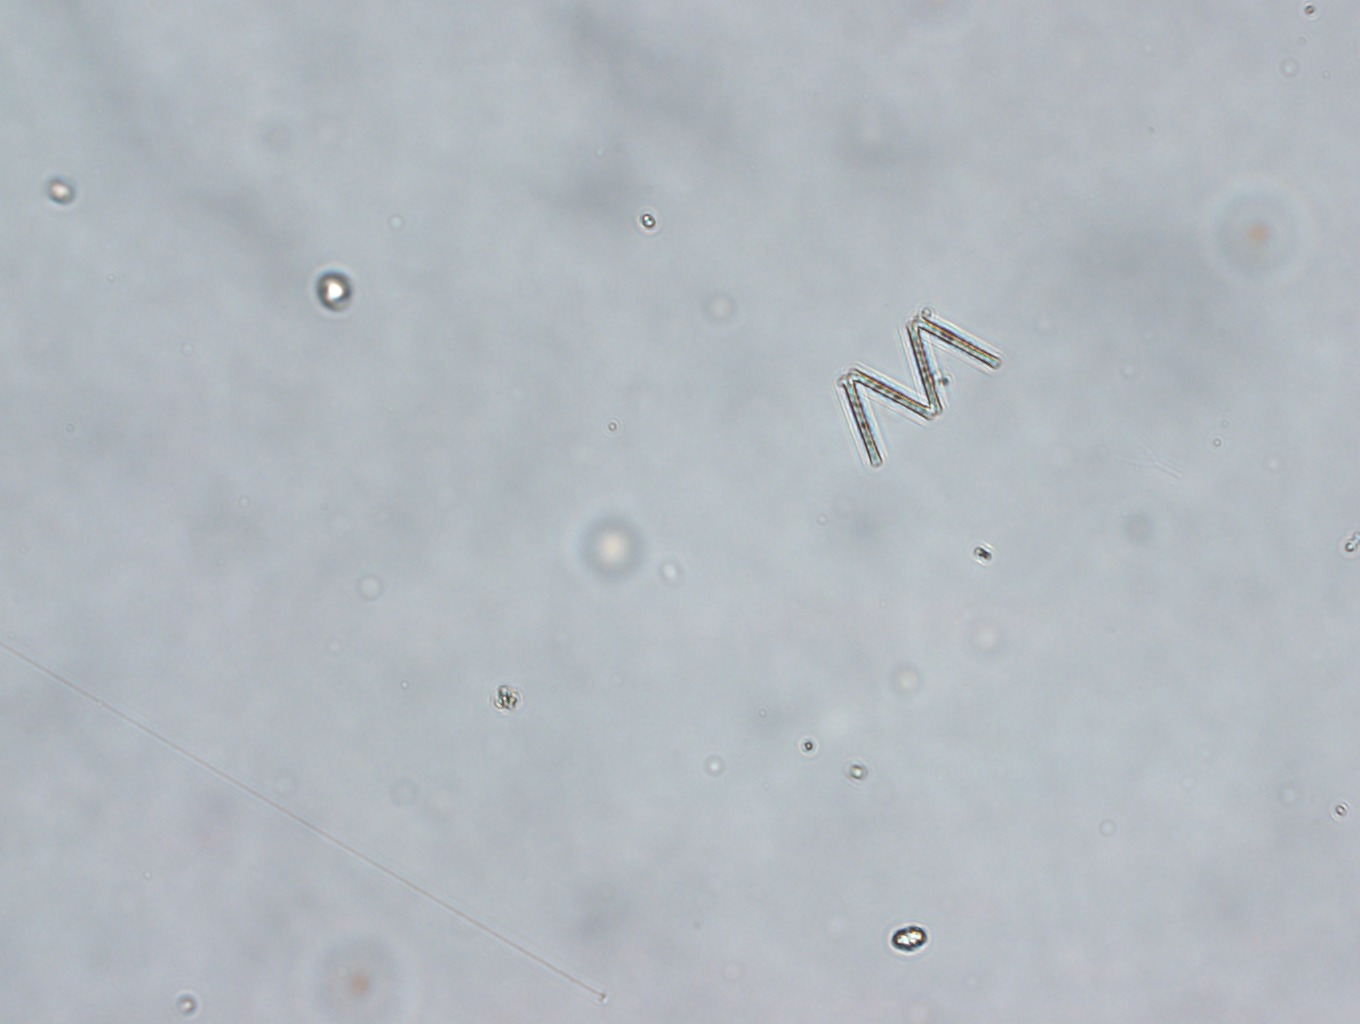thalassionema nitzschioides: (834, 301, 1003, 472)
